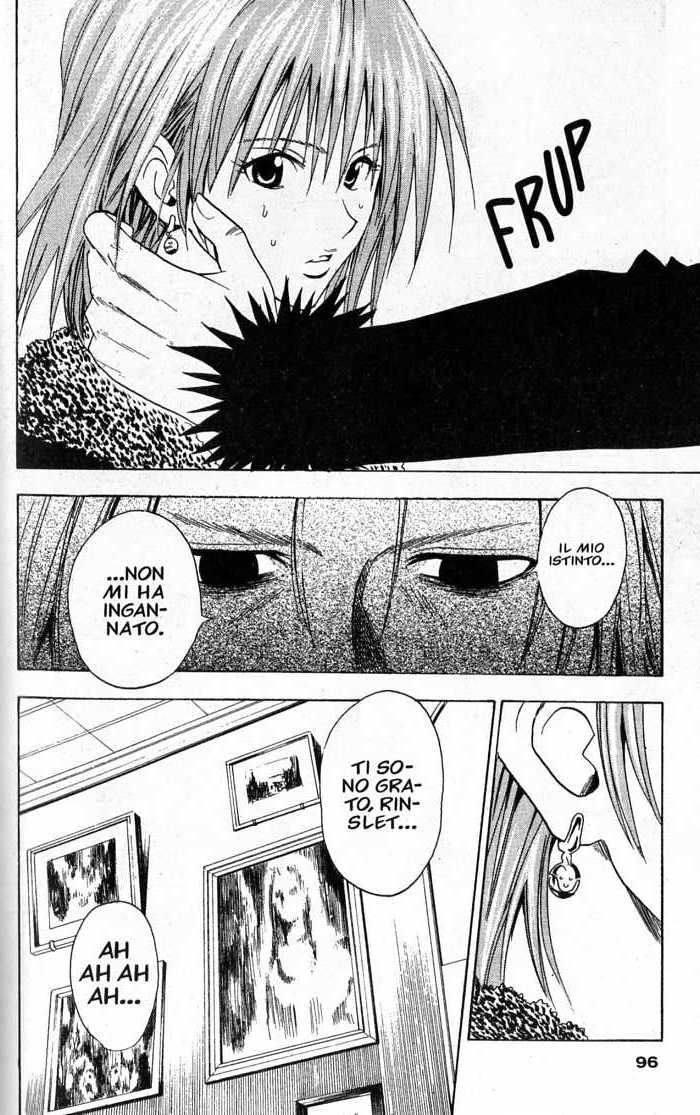Baloon: (320, 691, 442, 904), (71, 508, 204, 689), (69, 904, 165, 1057), (535, 486, 628, 627)
Vignetta: (15, 1, 696, 471), (20, 694, 490, 1115), (16, 493, 664, 677), (467, 701, 664, 1043)
